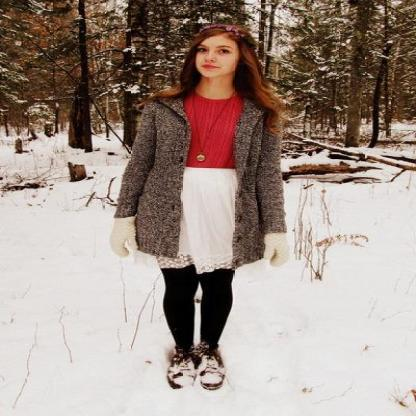jacket: (96, 96, 291, 271)
shirt: (183, 91, 242, 168)
shoe: (160, 340, 236, 392)
skirt: (156, 167, 240, 273)
